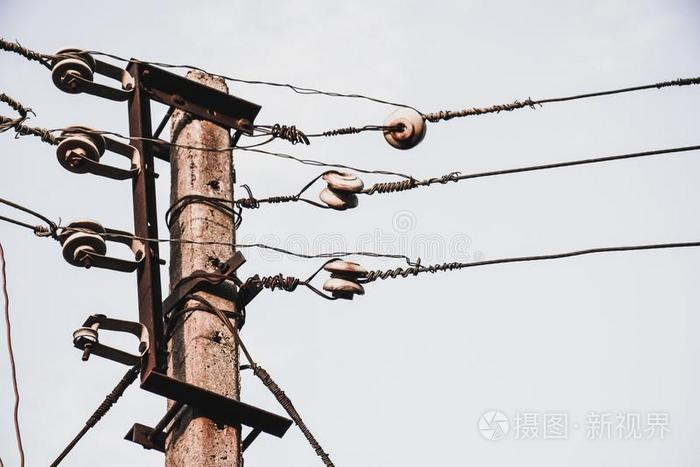insulator: (52, 123, 104, 174), (56, 218, 112, 264), (382, 104, 430, 152), (321, 255, 373, 299), (50, 46, 98, 89), (319, 167, 364, 211)
